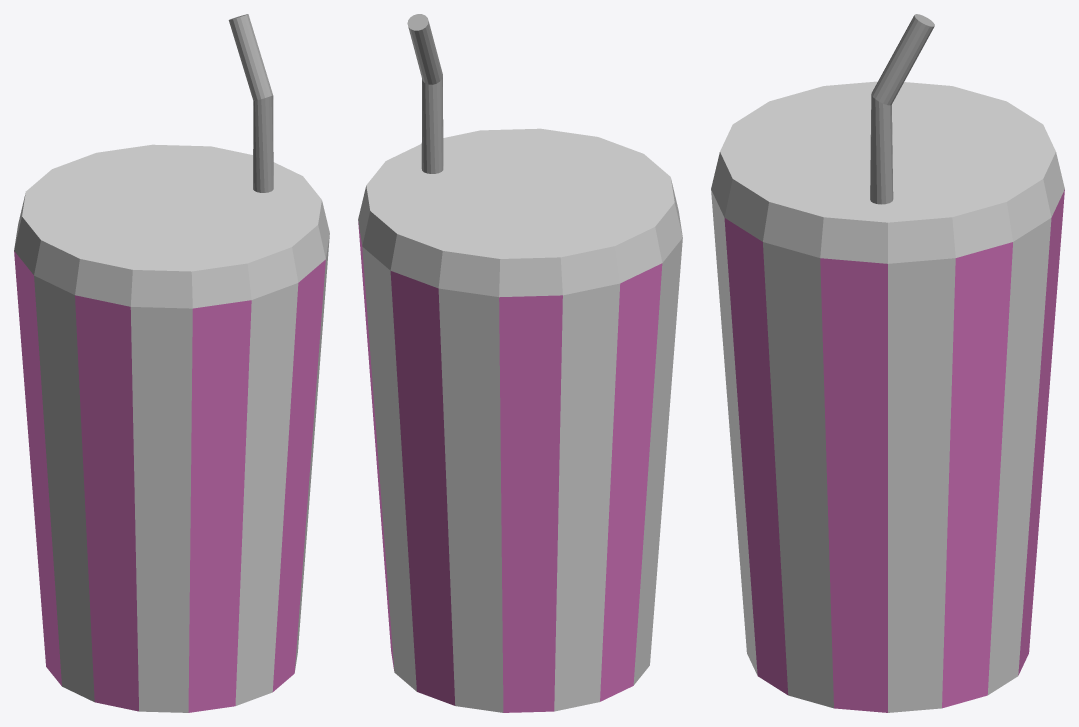
The model's file is Soda.fbx.
3 renders of one model, left to right at view 1: azimuth 30°, elevation 25°; view 2: azimuth 150°, elevation 25°; view 3: azimuth 270°, elevation 25°, orthographic. The views are drawn at different scales.
Parts seen in each view (by area): view 1: Cylinder; view 2: Cylinder; view 3: Cylinder.
Part boxes in pixels (x1=…): Cylinder: x1=14, y1=14, x2=329, y2=712; Cylinder: x1=358, y1=14, x2=682, y2=712; Cylinder: x1=711, y1=14, x2=1064, y2=712.
Bounding box in the file's own units: 0.851 × 1.81 × 0.851.
